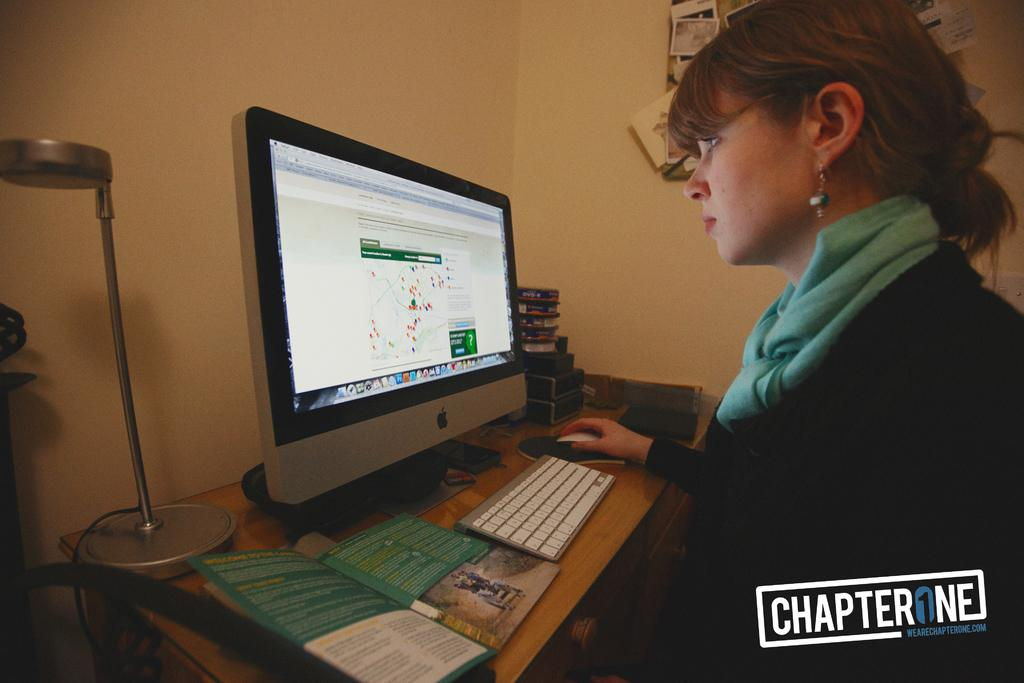Book: (185, 511, 561, 682)
Computer-monitor: (231, 101, 532, 524)
